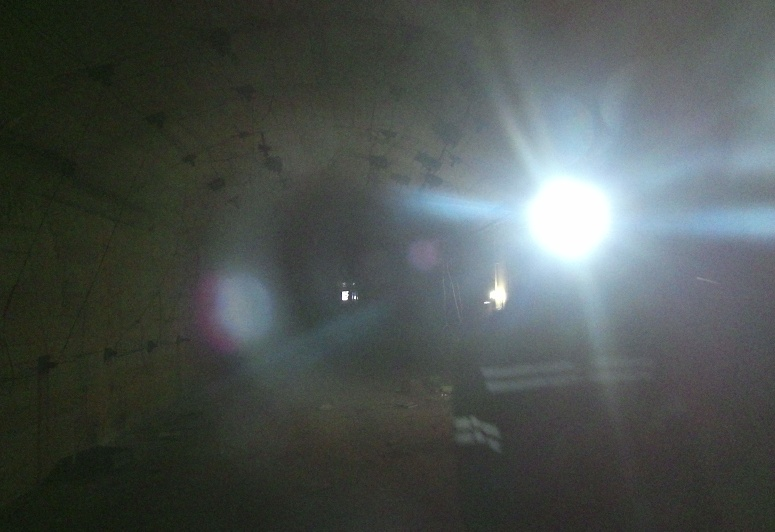person: (459, 169, 746, 532)
